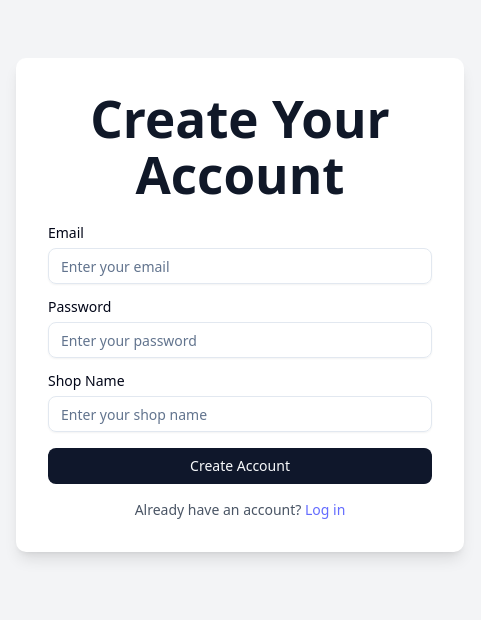
Test: RegistrationForm › Form Validation › shows error when email is empty
The image size is (481, 620).
Click the button "Create Account".
click(240, 466)  # box [48,448,432,484]
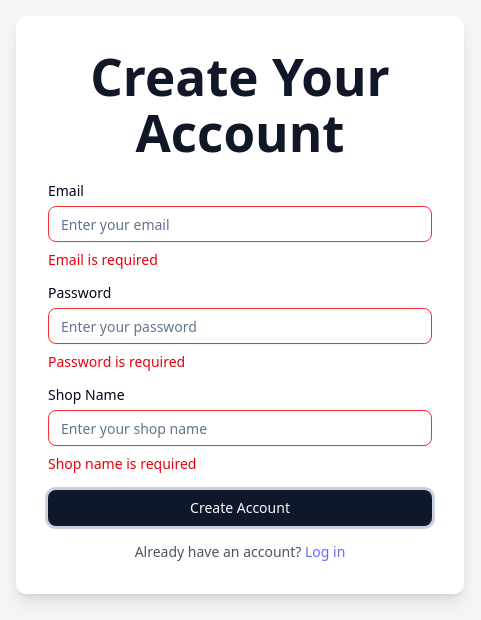
Expected: the text "Email is required" is shown, [48,250,158,269]
